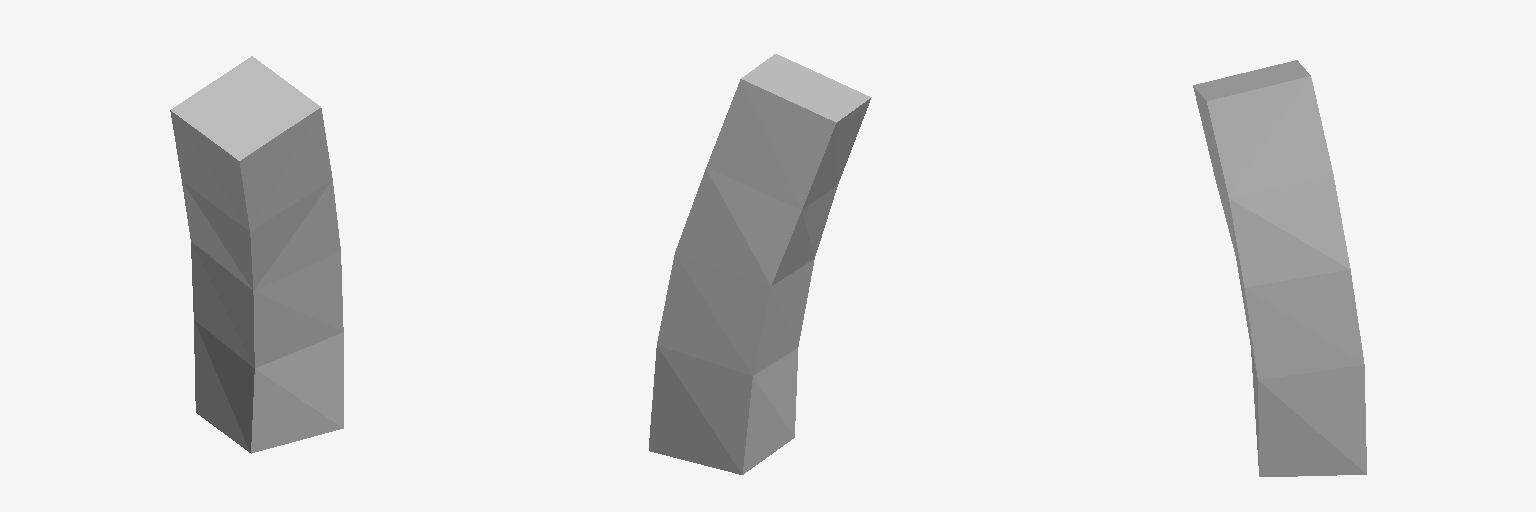
Rendered from wiggle_000042.obj.
The picture shows the model from 3 angles: view 1: azimuth 30°, elevation 25°; view 2: azimuth 150°, elevation 25°; view 3: azimuth 270°, elevation 25°; orthographic projection.
Visible parts, largest first — view 1: Cube; view 2: Cube; view 3: Cube.
Boxes of the visible parts, x1=… form: Cube: x1=170, y1=56, x2=343, y2=453; Cube: x1=649, y1=54, x2=871, y2=474; Cube: x1=1193, y1=60, x2=1366, y2=476.
Bounding box in the file's own units: 3.3 × 7.6 × 3.23.